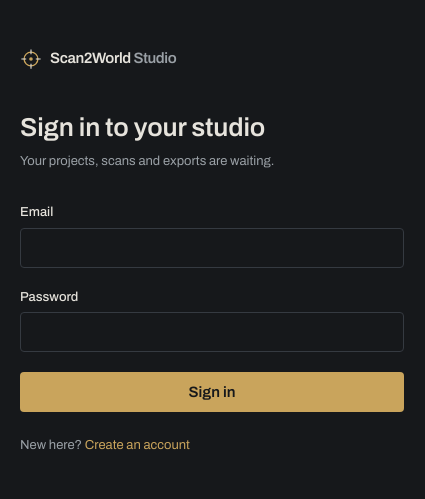
Test: AuthPage › shows the API error message when sign-in fails
In the field labelled "Email": point(212, 248) [20,228,404,268], type "ada@example.com"
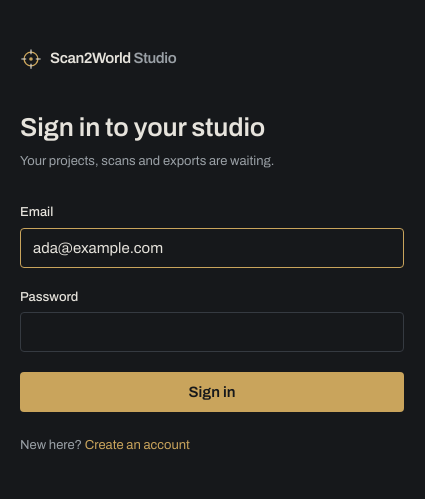
In the password field labelled "Password": point(212, 332) [20,312,404,352], type "correct-horse-battery"
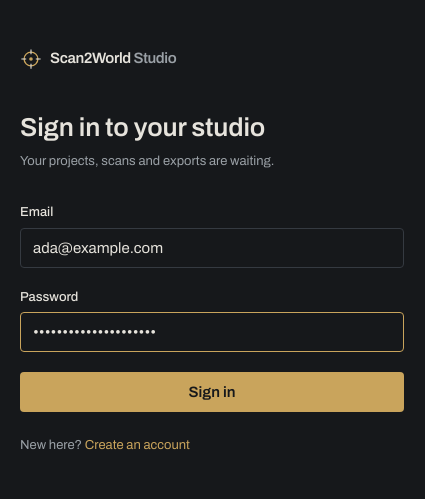
Click the button "Sign in": point(212, 392) [20,372,404,412]
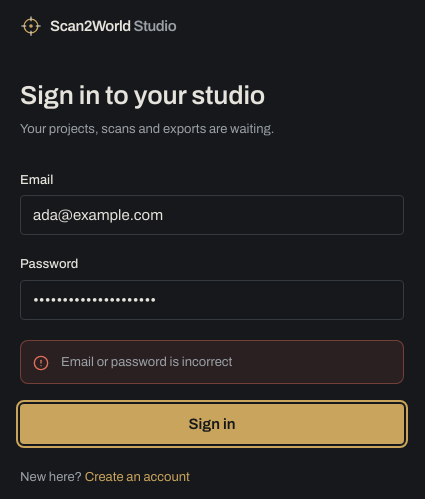
expect the text "Email or password is incorrect" is shown: met, box [61,353,232,371]
